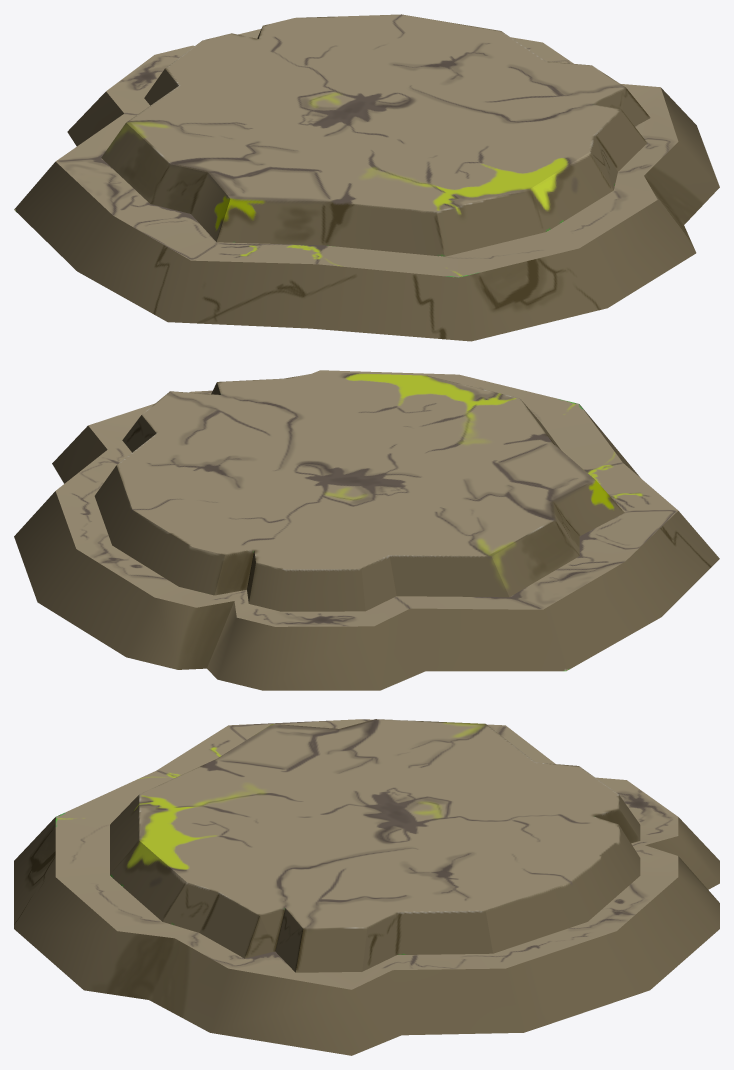
3 renders of one model, top to bottom at view 1: azimuth 30°, elevation 25°; view 2: azimuth 150°, elevation 25°; view 3: azimuth 270°, elevation 25°, orthographic. The views are drawn at different scales.
Parts seen in each view (by area): view 1: Base; view 2: Base; view 3: Base.
Boxes of the visible parts, left/top/right/bottom form: Base: left=14, top=14, right=719, bottom=341; Base: left=14, top=370, right=719, bottom=690; Base: left=14, top=719, right=719, bottom=1055.
Bounding box in the file's own units: 296 × 36.01 × 288.
